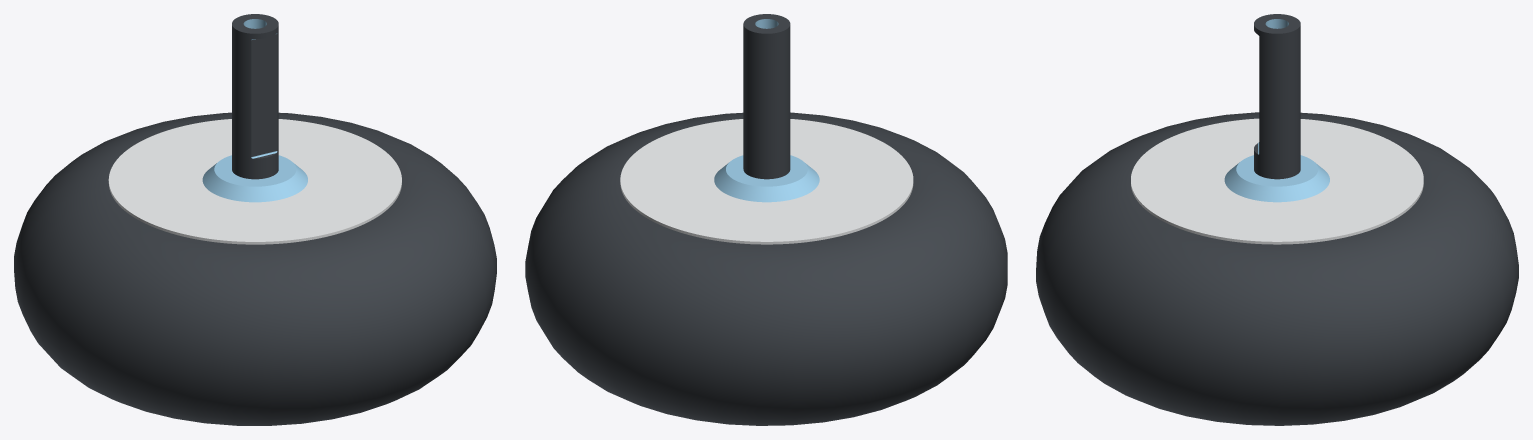
File: hub_6.5in.dae
The picture shows the model from 3 angles, left to right: view 1: azimuth 30°, elevation 25°; view 2: azimuth 150°, elevation 25°; view 3: azimuth 270°, elevation 25°; orthographic projection.
Visible parts, largest first — view 1: ID2; view 2: ID2; view 3: ID2.
Boxes of the visible parts, left/top/right/bottom form: ID2: left=14, top=14, right=496, bottom=425; ID2: left=525, top=14, right=1007, bottom=425; ID2: left=1036, top=14, right=1518, bottom=425.
Bounding box in the file's own units: 0.1647 × 0.1647 × 0.1257.
